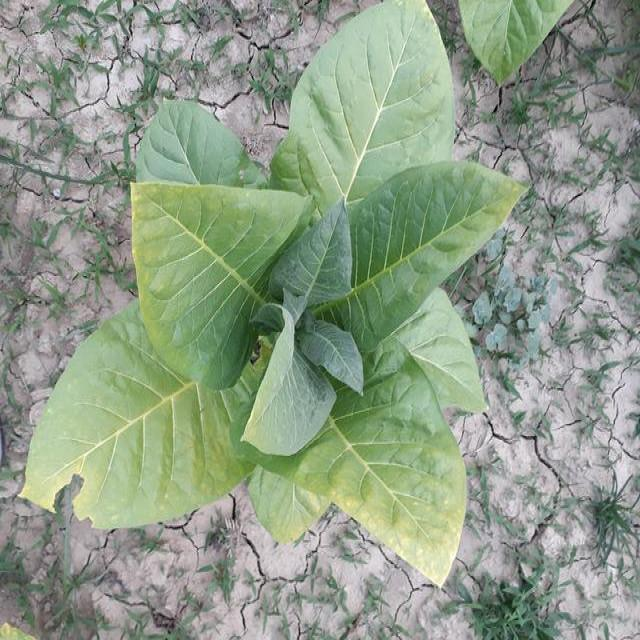crop: (23, 3, 520, 600)
